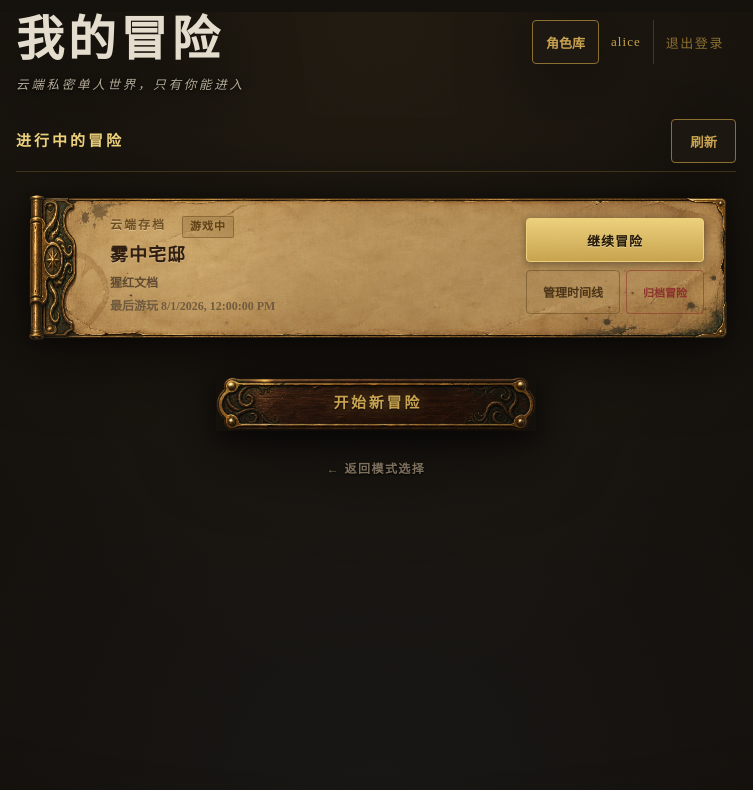
Test: SoloLobbyScreen 操作 › 删除失败时报错内联挂在对应冒险卡上，而不是创建卡片
Click the button "归档冒险" at (665, 292), box [626,270,704,314]
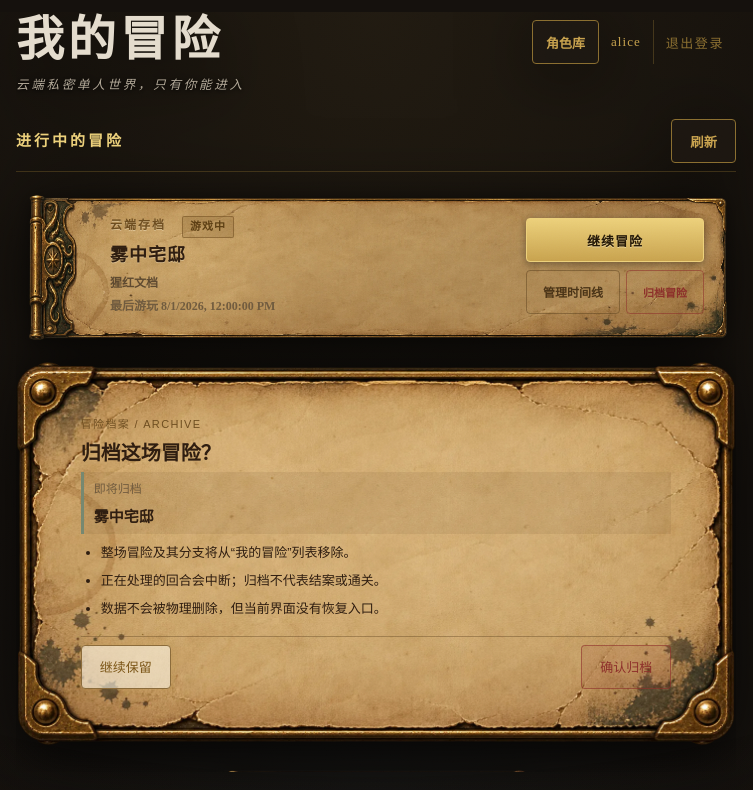
Click the button "确认归档" at (626, 667), box [581,645,671,689]
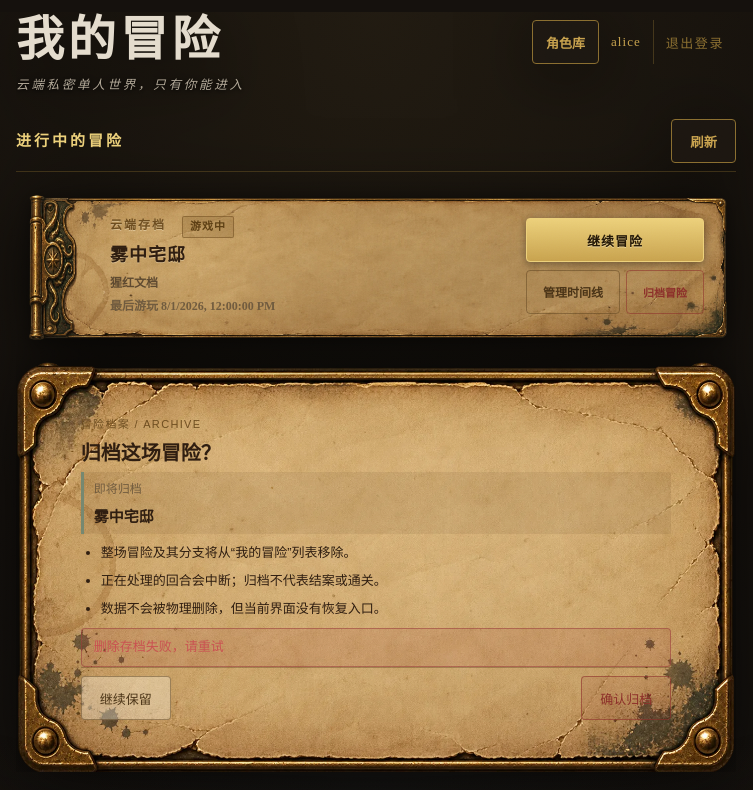
Expected: the button "确认归档" is shown, [581,676,671,720]
Expected: the message shows "删除存档失败", [94,639,224,654]
